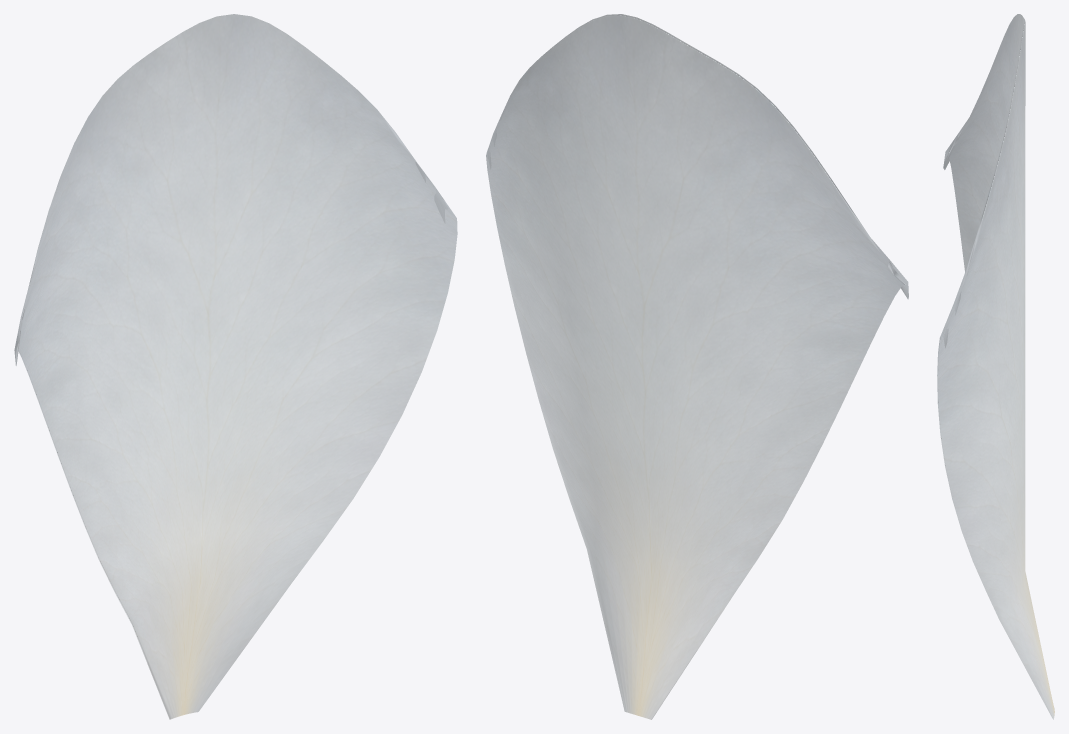
The model's file is inner_01.glb.
The picture shows the model from 3 angles, left to right: view 1: azimuth 30°, elevation 25°; view 2: azimuth 150°, elevation 25°; view 3: azimuth 270°, elevation 25°; orthographic projection. The views are drawn at different scales.
Visible parts, largest first — view 1: inner_01; view 2: inner_01; view 3: inner_01.
Boxes of the visible parts, bbox=[...] form: inner_01: bbox=[14, 14, 457, 719]; inner_01: bbox=[486, 14, 908, 719]; inner_01: bbox=[937, 14, 1054, 719].
Size of the model in its own units: 0.0414 by 0.0638 by 0.0098.
Materials: 1 (1 with a texture image).
